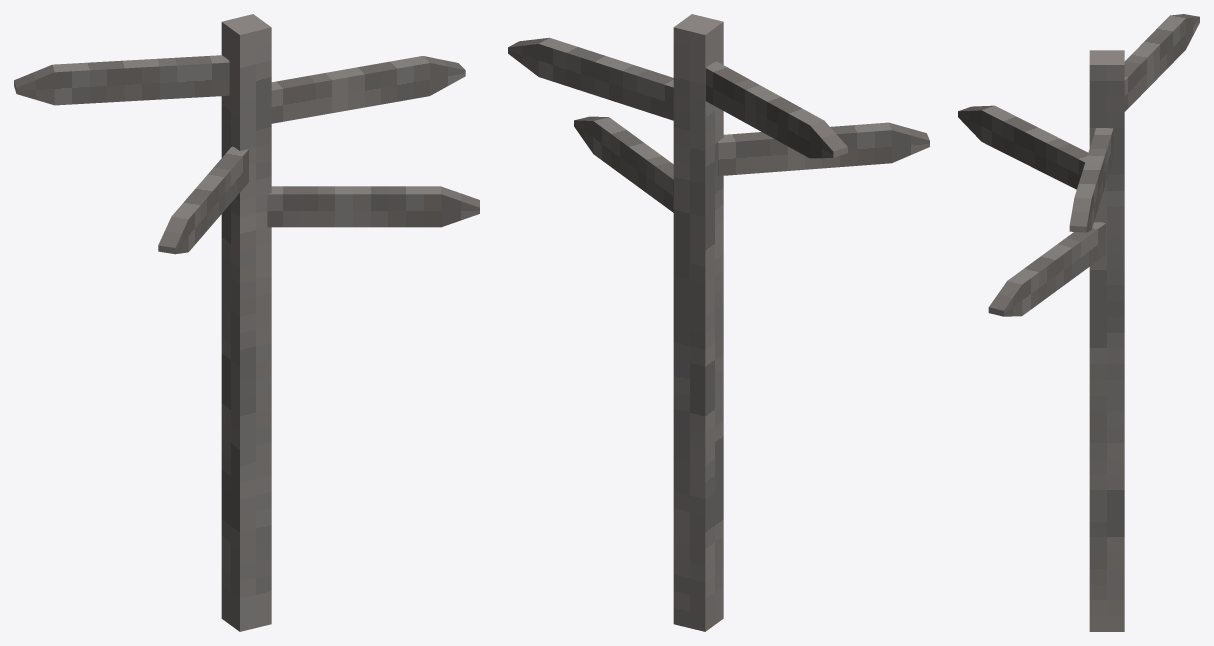
The model's file is road_post.fbx.
3 views of the same model, side by side, from view 1: azimuth 30°, elevation 25°; view 2: azimuth 150°, elevation 25°; view 3: azimuth 270°, elevation 25° (orthographic). The views are drawn at different scales.
Visible parts, largest first — view 1: cube, cube_1, cube_4, cube_2, cube_3; view 2: cube, cube_2, cube_3, cube_1, cube_4; view 3: cube, cube_3, cube_4, cube_1, cube_2.
Boxes of the visible parts, left/top/right/bottom form: cube: left=221, top=14, right=271, bottom=631; cube_1: left=14, top=55, right=229, bottom=105; cube_4: left=267, top=186, right=479, bottom=227; cube_2: left=271, top=56, right=465, bottom=123; cube_3: left=158, top=146, right=248, bottom=254; cube: left=673, top=14, right=723, bottom=631; cube_2: left=508, top=37, right=673, bottom=120; cube_3: left=718, top=122, right=929, bottom=176; cube_1: left=705, top=61, right=847, bottom=158; cube_4: left=574, top=116, right=673, bottom=212; cube: left=1089, top=50, right=1124, bottom=631; cube_3: left=958, top=105, right=1087, bottom=189; cube_4: left=988, top=222, right=1105, bottom=316; cube_1: left=1124, top=14, right=1199, bottom=111; cube_2: left=1069, top=128, right=1113, bottom=232.
Size of the model in its own units: 154 by 225 by 87.
2 materials, 2 textured.
